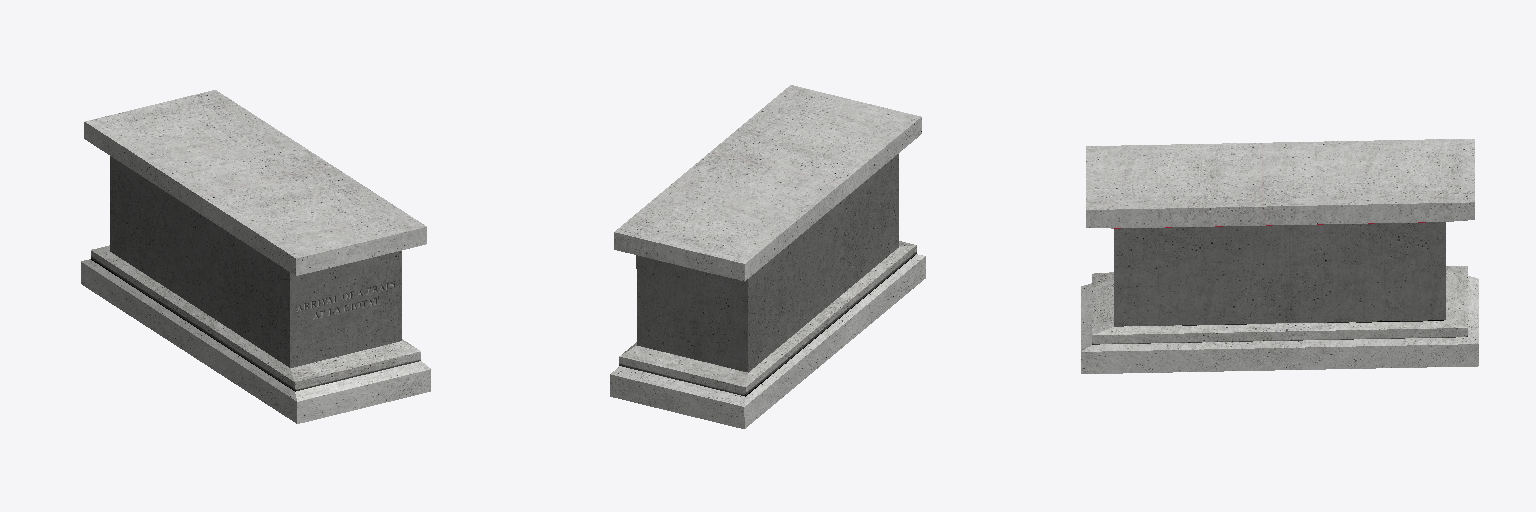
3 renders of one model, left to right at view 1: azimuth 30°, elevation 25°; view 2: azimuth 150°, elevation 25°; view 3: azimuth 270°, elevation 25°, orthographic.
Visible parts, largest first — view 1: Cube_Cube.001; view 2: Cube_Cube.001; view 3: Cube_Cube.001.
Boxes of the visible parts, box(x1,y1,x2,y2) form: Cube_Cube.001: box(81, 90, 430, 423); Cube_Cube.001: box(610, 85, 925, 428); Cube_Cube.001: box(1081, 139, 1478, 373).
Size of the model in its own units: 16.43 by 16.97 by 37.26.
Materials: 1 (1 with a texture image).